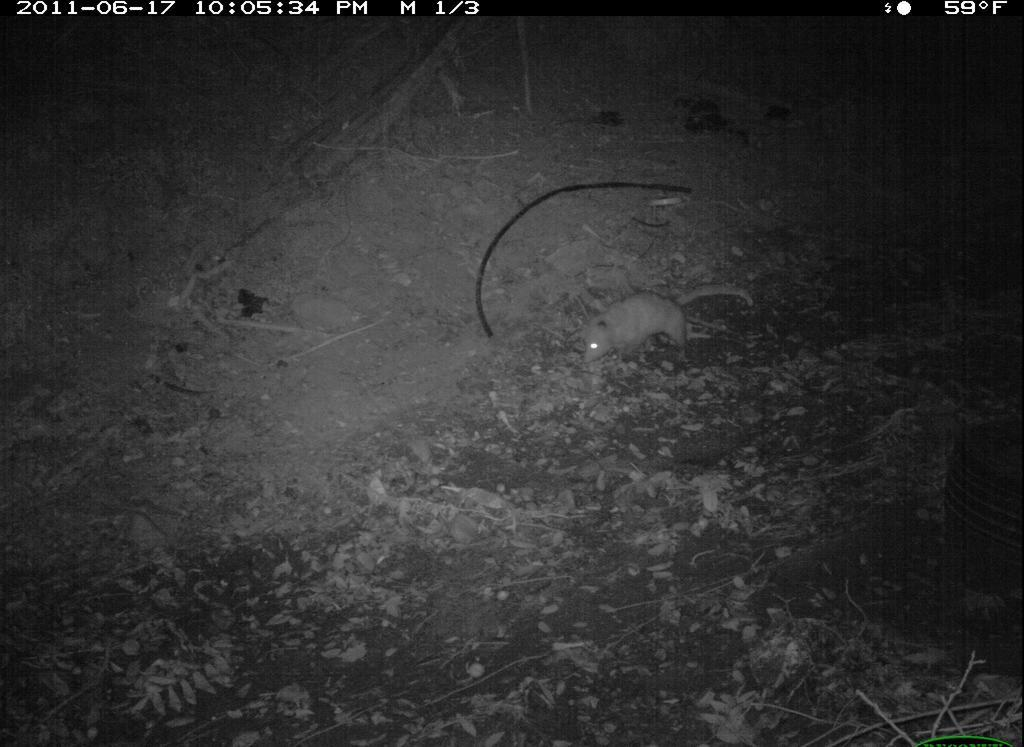opossum: (574, 289, 739, 368)
